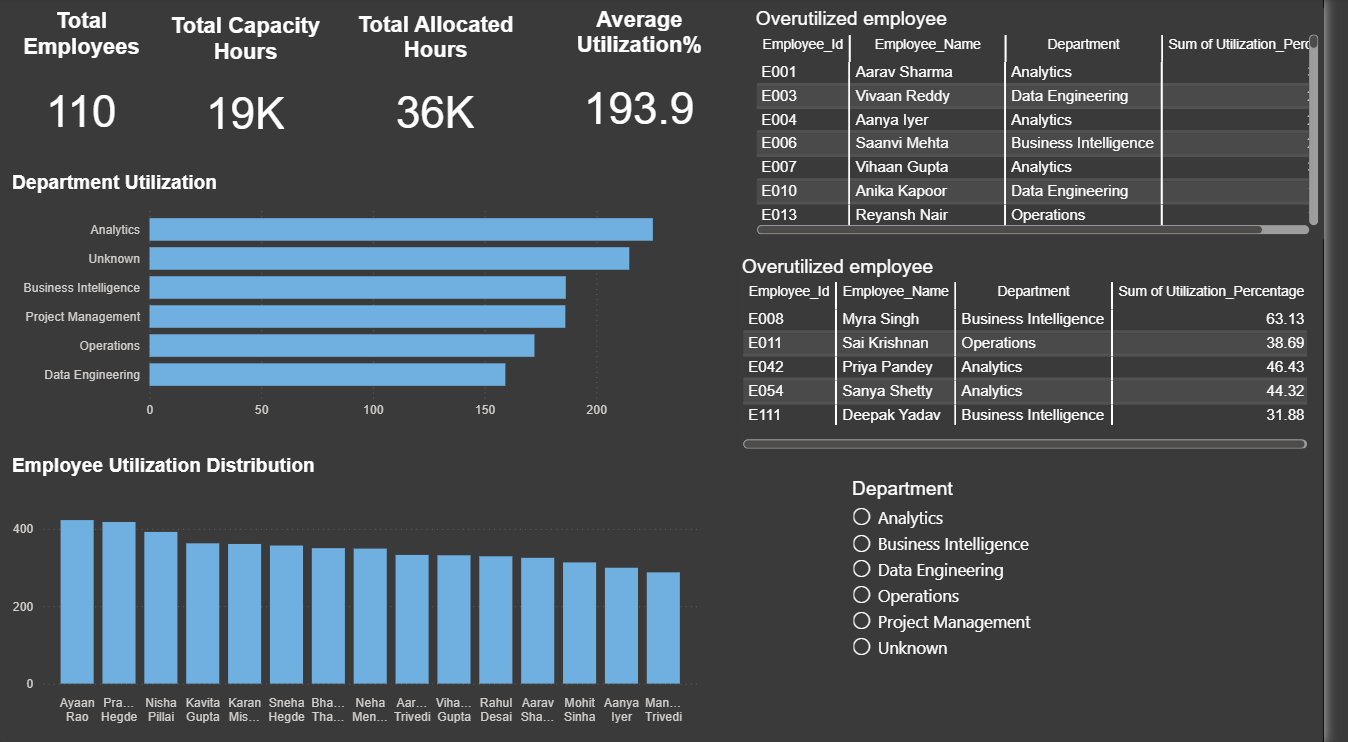

This screenshot's page, from the dashboard's own definition file:
{"tool":"powerbi","page":{"name":"Workforce Utilization ","canvas":[1280,720],"ordinal":0},"visuals":[{"type":"cardVisual","title":"Total Employees","fields":{"Data":["Count(wfrpua allocations_clean.Employee_Id)"]},"box":[8.6,10,144.3,144.3],"z":0},{"type":"cardVisual","title":"Total Capacity Hours ","fields":{"Data":["Sum(wfrpua employee_utilization.CapicityHours)"]},"box":[152.9,14.3,171.4,134.3],"z":1000},{"type":"cardVisual","title":"Total Allocated Hours ","fields":{"Data":["Sum(wfrpua employee_utilization.Allocated_Hours)"]},"box":[324.3,12.9,195.7,134.3],"z":2000},{"type":"cardVisual","title":"Average Utilization%","fields":{"Data":["Avg(wfrpua employee_utilization.Utilization_Percentage)"]},"box":[524.3,8.6,188.6,140],"z":3000},{"type":"clusteredBarChart","title":"Department Utilization","fields":{"Category":["wfrpua employee_utilization.Department"],"Y":["Avg(wfrpua employee_utilization.Utilization_Percentage)"]},"box":[8.6,167.1,671.4,245.7],"z":4000},{"type":"clusteredColumnChart","title":"Employee Utilization Distribution","fields":{"Category":["wfrpua employee_utilization.Employee_Name"],"Y":["Sum(wfrpua employee_utilization.Utilization_Percentage)"]},"box":[8.6,440,671.4,268.6],"z":5000},{"type":"tableEx","title":"Overutilized employee","fields":{"Values":["wfrpua employee_utilization.Employee_Id","wfrpua employee_utilization.Employee_Name","wfrpua employee_utilization.Department","Sum(wfrpua employee_utilization.Utilization_Percentage)"]},"box":[726.7,10,553.3,223.3],"z":6000},{"type":"tableEx","title":"Overutilized employee","fields":{"Values":["wfrpua employee_utilization.Employee_Id","wfrpua employee_utilization.Employee_Name","wfrpua employee_utilization.Department","Sum(wfrpua employee_utilization.Utilization_Percentage)"]},"box":[712.9,248.6,555.7,191.4],"z":7000},{"type":"listSlicer","fields":{"Values":["wfrpua employees_clean.Department"]},"box":[818.6,462.9,450,232.9],"z":8000}]}

Visuals, with their boxes in screenshot pixels (x1, y1, x2, y2), scaled from the page's 1280x720 canvas onto the 1348x742 screenshot:
"Total Employees" cardVisual: select_region(9, 10, 161, 159)
"Total Capacity Hours " cardVisual: select_region(161, 15, 342, 153)
"Total Allocated Hours " cardVisual: select_region(342, 13, 548, 152)
"Average Utilization%" cardVisual: select_region(552, 9, 751, 153)
"Department Utilization" clusteredBarChart: select_region(9, 172, 716, 425)
"Employee Utilization Distribution" clusteredColumnChart: select_region(9, 453, 716, 730)
"Overutilized employee" tableEx: select_region(765, 10, 1347, 240)
"Overutilized employee" tableEx: select_region(751, 256, 1336, 453)
listSlicer - wfrpua employees_clean.Department: select_region(862, 477, 1336, 717)
